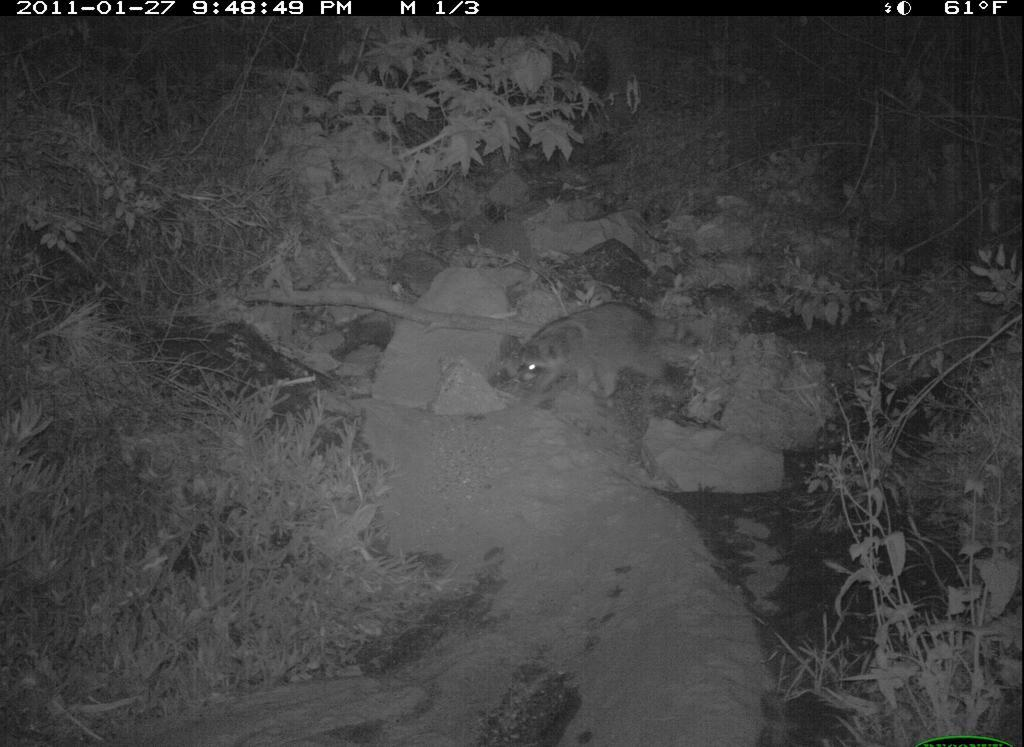raccoon: (501, 295, 705, 414)
